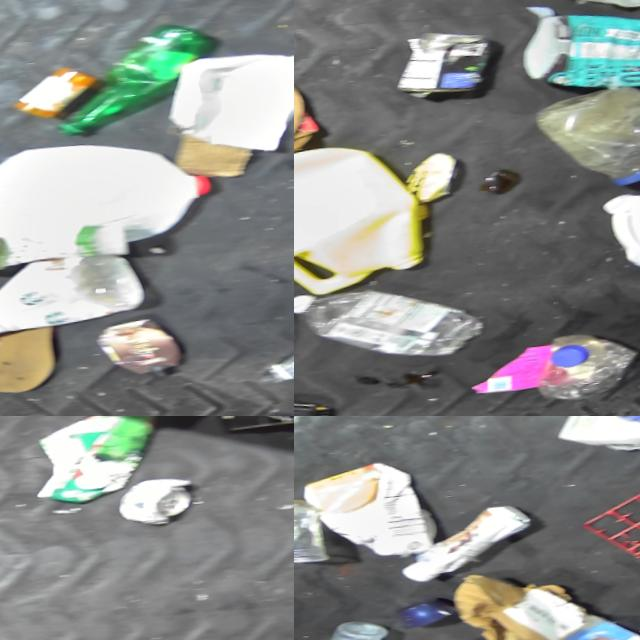can: (393, 35, 496, 110), (14, 65, 97, 126), (118, 482, 193, 536)
milk_jug: (0, 137, 214, 266), (294, 142, 426, 311), (0, 251, 145, 343), (596, 202, 640, 296)
non_white_jug: (301, 460, 438, 565)
plastic_bottle: (50, 26, 206, 145), (294, 284, 483, 377), (531, 93, 640, 204), (536, 338, 638, 415), (259, 335, 294, 393)
